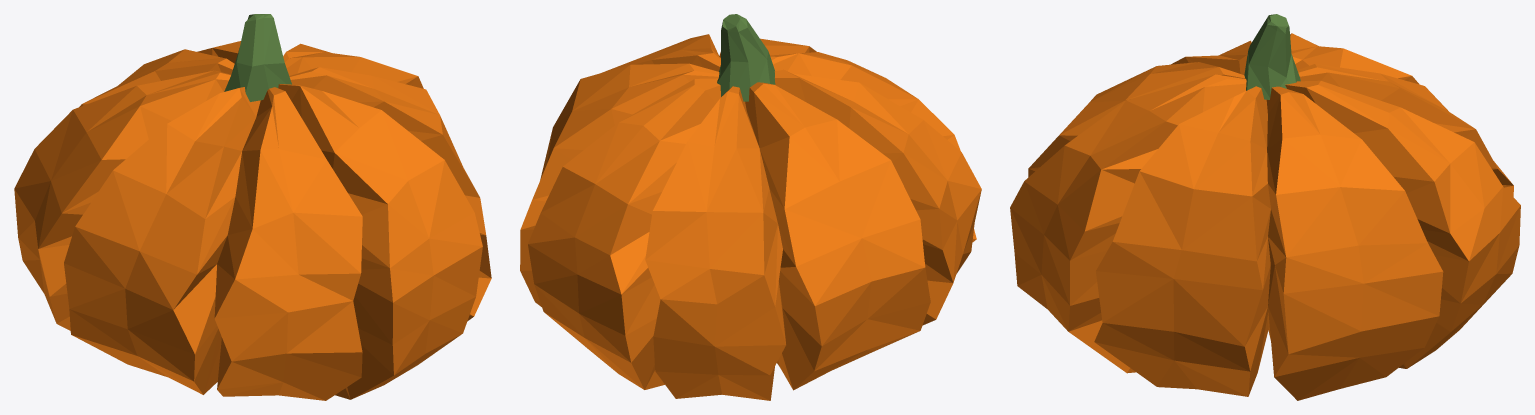
Rendered from SFV_Pumpkin.fbx.
3 renders of one model, left to right at view 1: azimuth 30°, elevation 25°; view 2: azimuth 150°, elevation 25°; view 3: azimuth 270°, elevation 25°, orthographic. The views are drawn at different scales.
Parts seen in each view (by area): view 1: SFV_Pumpkin; view 2: SFV_Pumpkin; view 3: SFV_Pumpkin.
Part boxes in pixels (x1,y1,x2,y2): SFV_Pumpkin: [14, 14, 491, 400]; SFV_Pumpkin: [520, 14, 981, 400]; SFV_Pumpkin: [1010, 14, 1520, 400].
Bounding box in the file's own units: 60.89 × 50.03 × 67.81.
